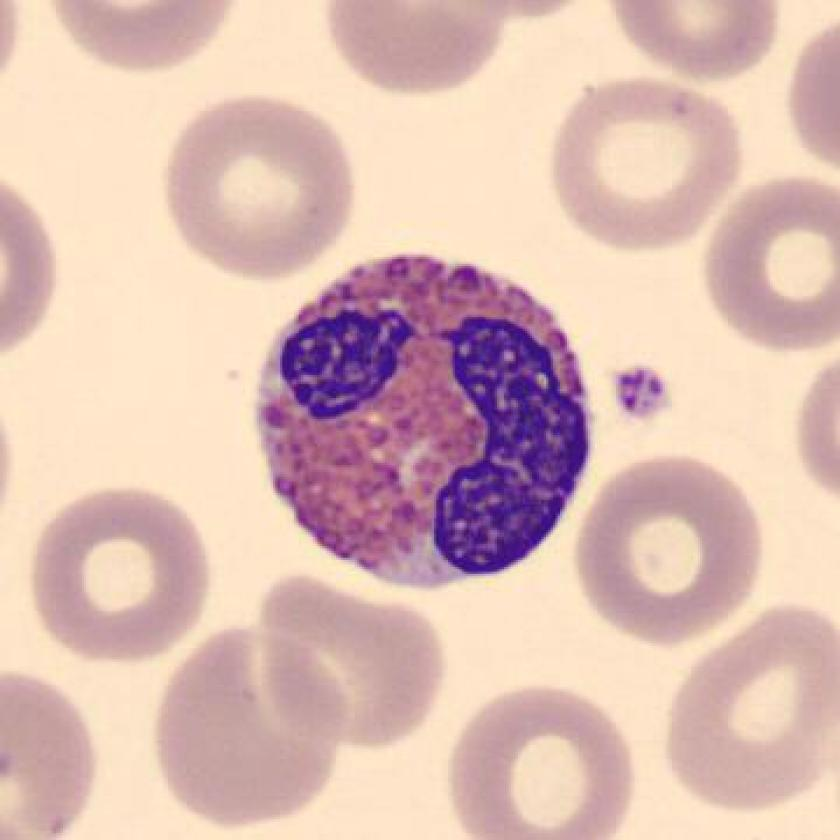eosinophil: (241, 240, 603, 601)
